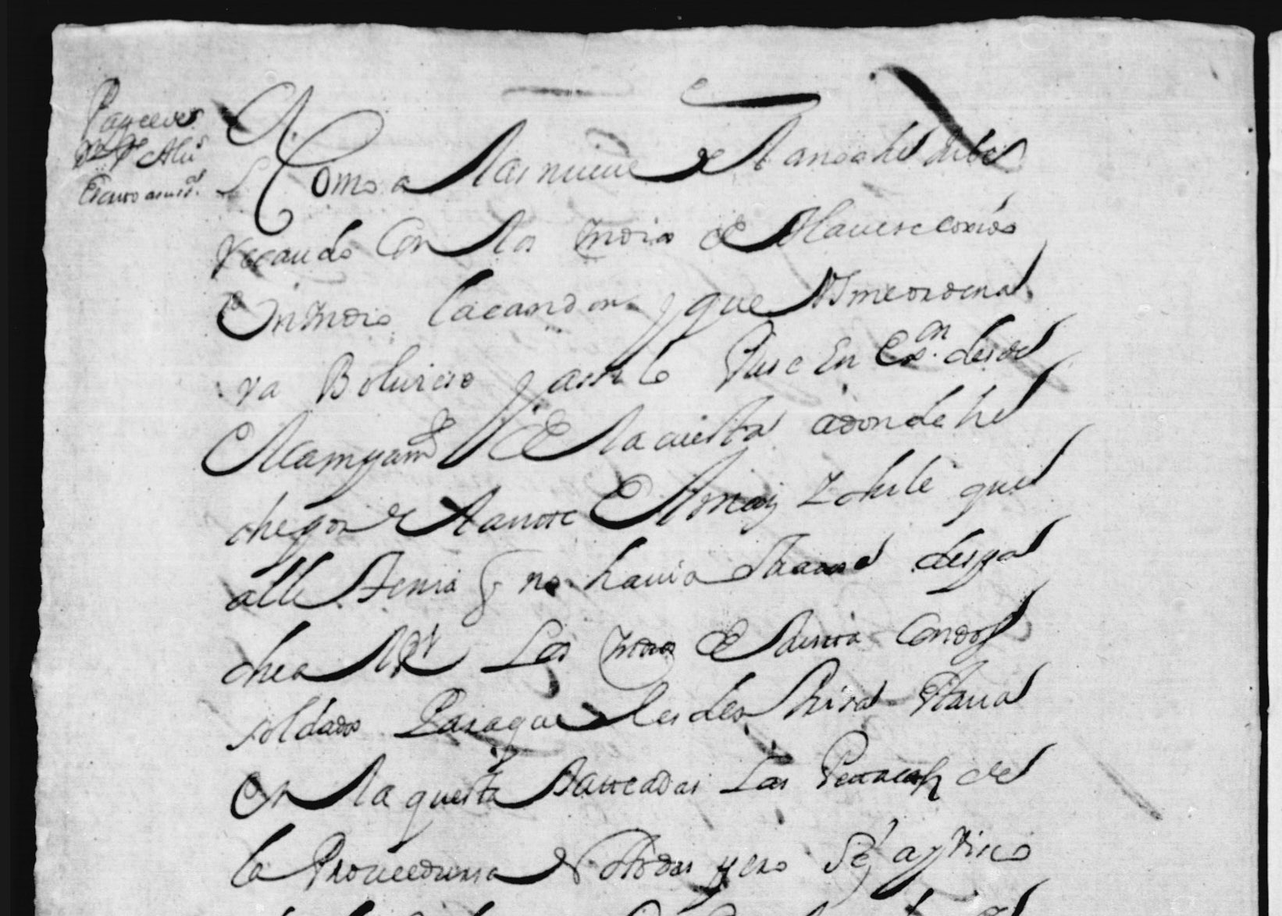lacandon: (428, 268, 639, 326)
